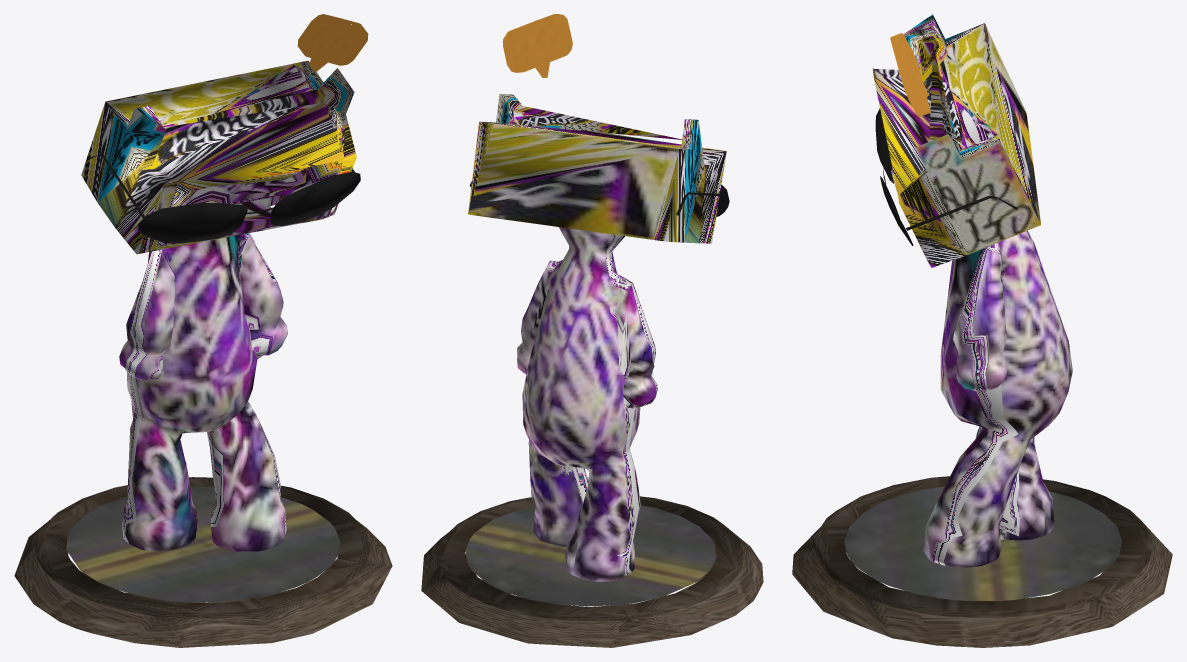
3 renders of one model, left to right at view 1: azimuth 30°, elevation 25°; view 2: azimuth 150°, elevation 25°; view 3: azimuth 270°, elevation 25°, orthographic. The views are drawn at different scales.
Size of the model in its own units: 1.45 by 2.38 by 1.44.
6 materials, 5 textured.
